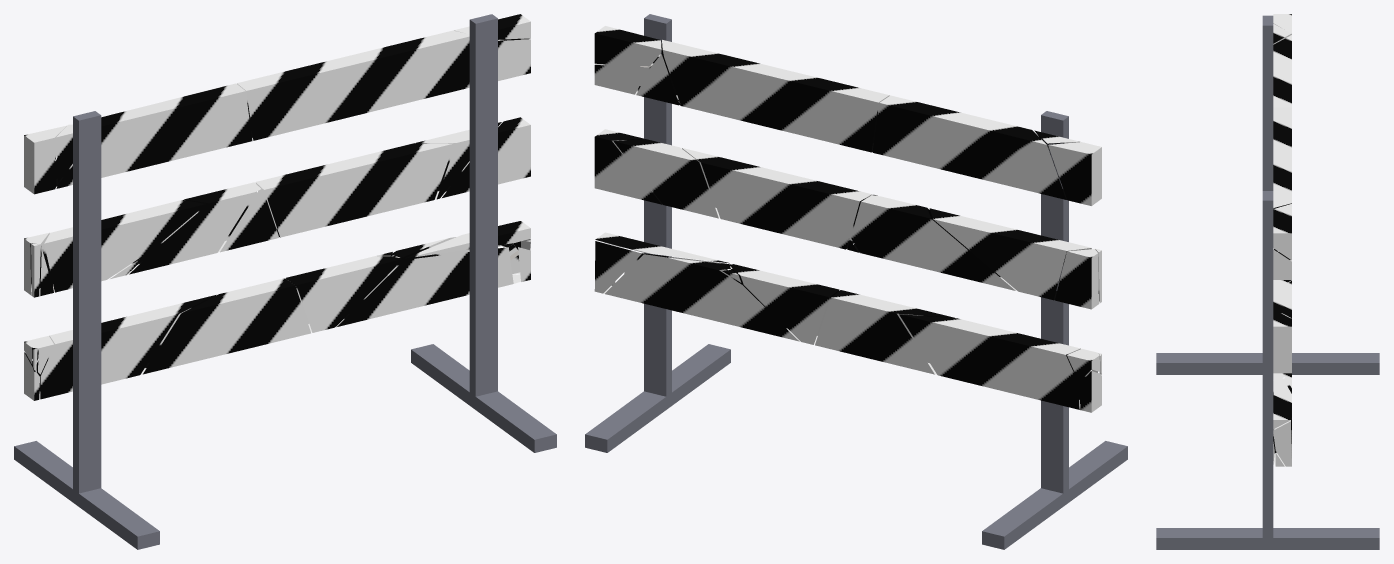
File: TrafficBarricade_Broken.fbx
3 renders of one model, left to right at view 1: azimuth 30°, elevation 25°; view 2: azimuth 150°, elevation 25°; view 3: azimuth 270°, elevation 25°, orthographic. The views are drawn at different scales.
Parts seen in each view (by area): view 1: TrafficBarricade_Broken_cell.026, TrafficBarricade_Broken_cell.012, TrafficBarricade_Broken_cell.017, TrafficBarricade_Broken_cell.024, TrafficBarricade_Broken_cell.010, TrafficBarricade_Broken_cell.001, TrafficBarricade_Broken_cell.025, TrafficBarricade_Broken_cell.002, TrafficBarricade_Broken_cell.018, TrafficBarricade_Broken_cell.003, TrafficBarricade_Broken_cell.008, TrafficBarricade_Broken_cell.016 (+2 smaller); view 2: TrafficBarricade_Broken_cell.026, TrafficBarricade_Broken_cell.012, TrafficBarricade_Broken_cell.017, TrafficBarricade_Broken_cell.024, TrafficBarricade_Broken_cell.001, TrafficBarricade_Broken_cell.010, TrafficBarricade_Broken_cell.025, TrafficBarricade_Broken_cell.002, TrafficBarricade_Broken_cell.018, TrafficBarricade_Broken_cell.022, TrafficBarricade_Broken_cell.004, TrafficBarricade_Broken_cell.016 (+4 smaller); view 3: TrafficBarricade_Broken_cell.012, TrafficBarricade_Broken_cell.026, TrafficBarricade_Broken_cell.017, TrafficBarricade_Broken_cell.002, TrafficBarricade_Broken_cell.008, TrafficBarricade_Broken_cell.004, TrafficBarricade_Broken_cell.016, TrafficBarricade_Broken_cell.018.
Boxes of the visible parts, x1,y1,x2,y2 form: TrafficBarricade_Broken_cell.026: (14, 83, 252, 549); TrafficBarricade_Broken_cell.012: (336, 14, 556, 452); TrafficBarricade_Broken_cell.017: (237, 30, 469, 140); TrafficBarricade_Broken_cell.024: (255, 143, 453, 237); TrafficBarricade_Broken_cell.010: (143, 278, 310, 374); TrafficBarricade_Broken_cell.001: (116, 182, 260, 274); TrafficBarricade_Broken_cell.025: (285, 256, 402, 332); TrafficBarricade_Broken_cell.002: (442, 117, 530, 197); TrafficBarricade_Broken_cell.018: (24, 125, 66, 194); TrafficBarricade_Broken_cell.003: (220, 190, 279, 252); TrafficBarricade_Broken_cell.008: (405, 221, 530, 258); TrafficBarricade_Broken_cell.016: (498, 39, 530, 80); TrafficBarricade_Broken_cell.026: (872, 95, 1127, 549); TrafficBarricade_Broken_cell.012: (585, 14, 799, 452); TrafficBarricade_Broken_cell.017: (661, 39, 889, 152); TrafficBarricade_Broken_cell.024: (682, 148, 871, 249); TrafficBarricade_Broken_cell.001: (851, 195, 1015, 290); TrafficBarricade_Broken_cell.010: (815, 290, 954, 374); TrafficBarricade_Broken_cell.025: (732, 264, 839, 344); TrafficBarricade_Broken_cell.002: (594, 129, 662, 204); TrafficBarricade_Broken_cell.018: (1048, 142, 1101, 205); TrafficBarricade_Broken_cell.022: (1055, 249, 1098, 309); TrafficBarricade_Broken_cell.004: (594, 241, 641, 293); TrafficBarricade_Broken_cell.016: (594, 62, 654, 94); TrafficBarricade_Broken_cell.012: (1156, 191, 1379, 549); TrafficBarricade_Broken_cell.026: (1156, 15, 1379, 374); TrafficBarricade_Broken_cell.017: (1273, 107, 1291, 251); TrafficBarricade_Broken_cell.002: (1273, 309, 1291, 373); TrafficBarricade_Broken_cell.008: (1273, 373, 1291, 429); TrafficBarricade_Broken_cell.004: (1273, 416, 1291, 466); TrafficBarricade_Broken_cell.016: (1273, 249, 1291, 279); TrafficBarricade_Broken_cell.018: (1273, 14, 1291, 44).
Bounding box in the file's own units: 1.07 × 0.797 × 0.462.
